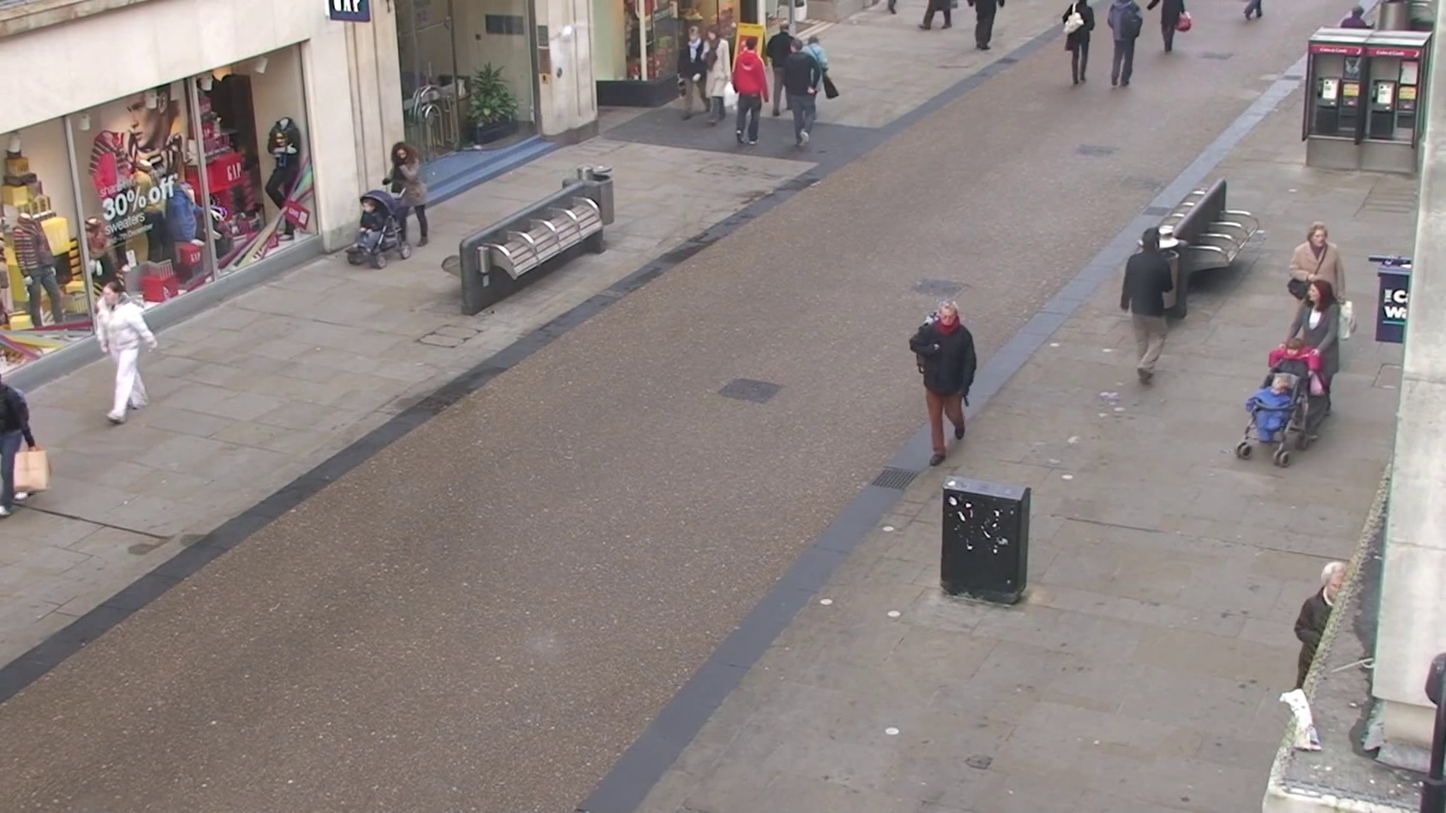person: (1313, 561, 1372, 797), (909, 301, 978, 461), (93, 276, 158, 425), (1121, 228, 1181, 381), (773, 23, 828, 148), (1286, 223, 1342, 321), (385, 141, 432, 252), (0, 376, 35, 516), (730, 31, 770, 146), (1107, 0, 1142, 89), (679, 31, 712, 121), (1062, 3, 1094, 87)
